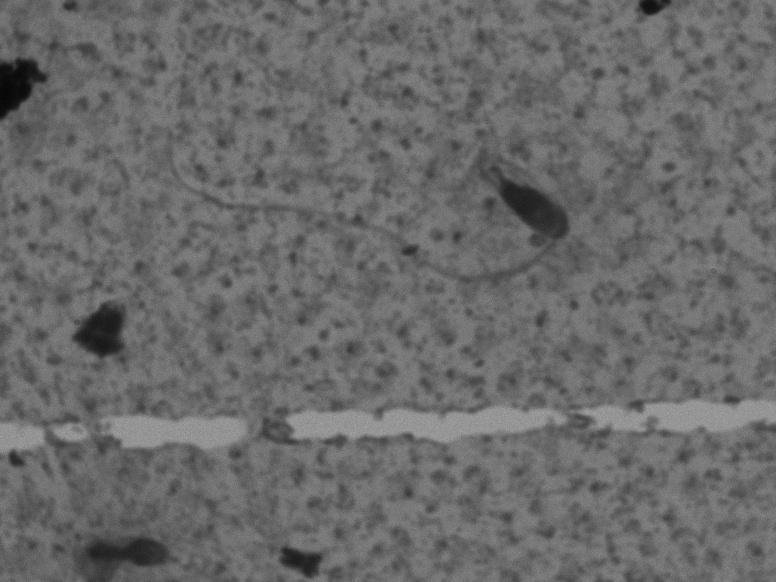Abnormal: (147, 42, 613, 299)
